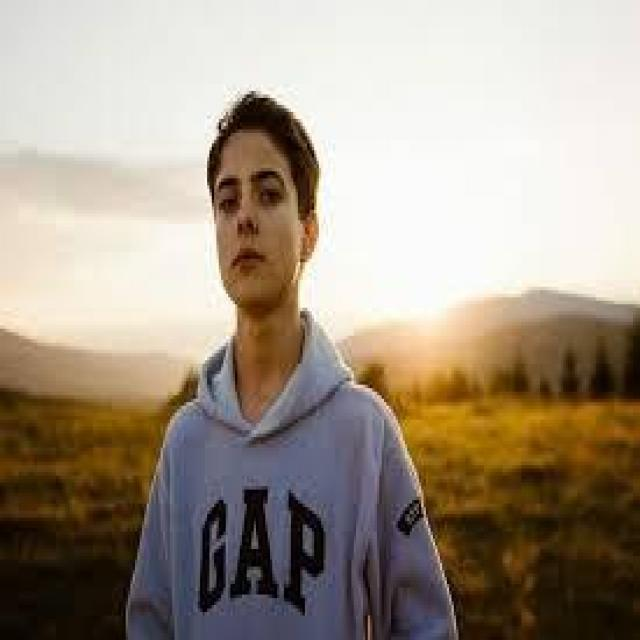person: (121, 49, 493, 622)
